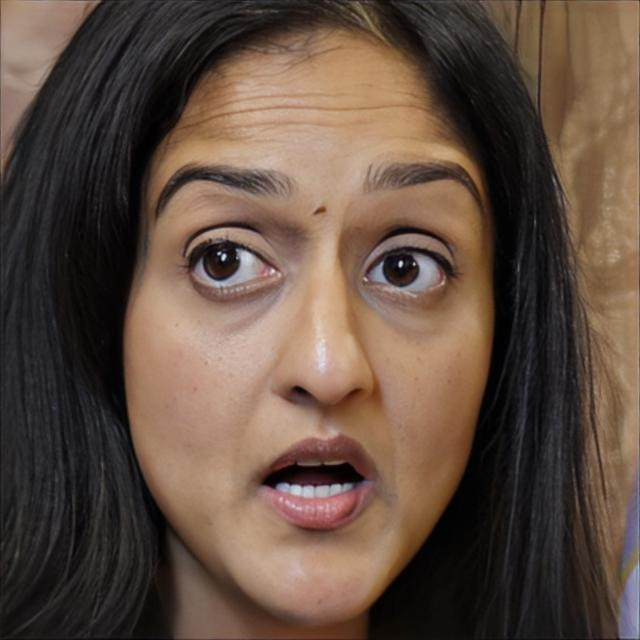surprise: (119, 24, 496, 626)
